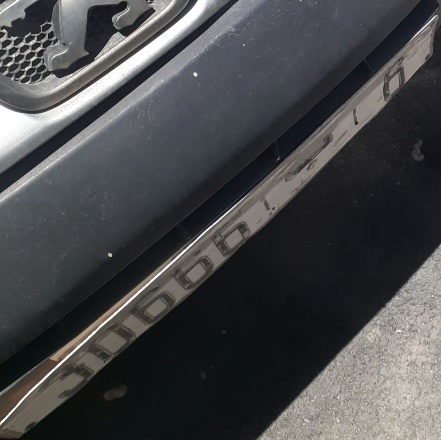0: (83, 314, 136, 363)
3: (37, 353, 100, 398)
6: (125, 277, 178, 330), (170, 245, 219, 294), (207, 207, 258, 251), (379, 55, 410, 102)
b: (275, 127, 341, 184)
